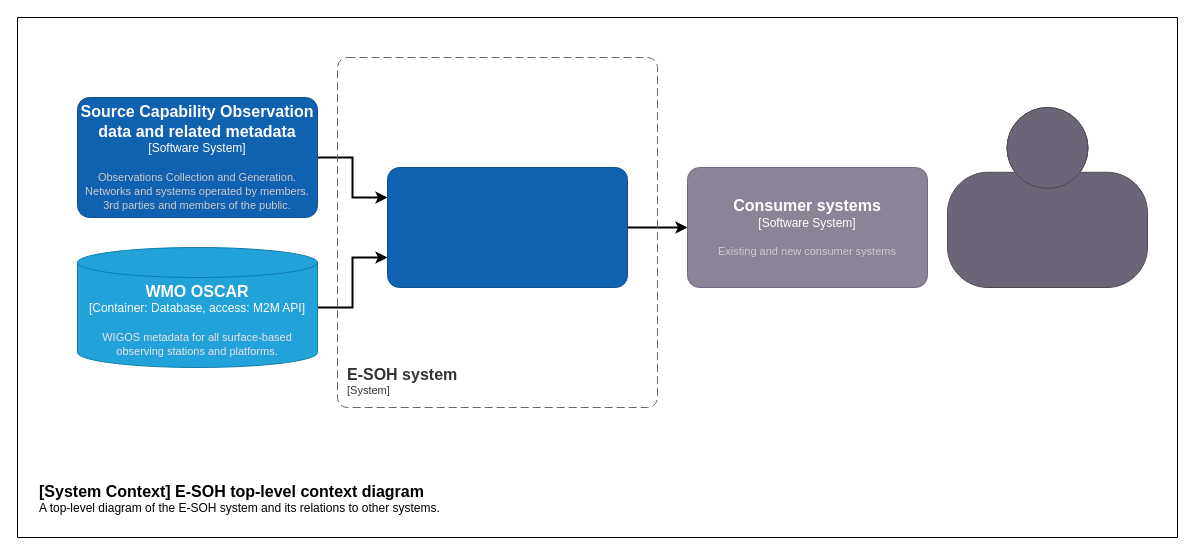
The diagram is 1195 pixels wide and 555 high, and some of its shapes have lost their labels. The shapes that lost their labels are listed below. From the top down, each one's centre as x and y in pixels, then its label:
At [1047,197]: "Data end-users [Person] Data end-users connect to consumer systems".
At [507,227]: "E-SOH [Software System]".
